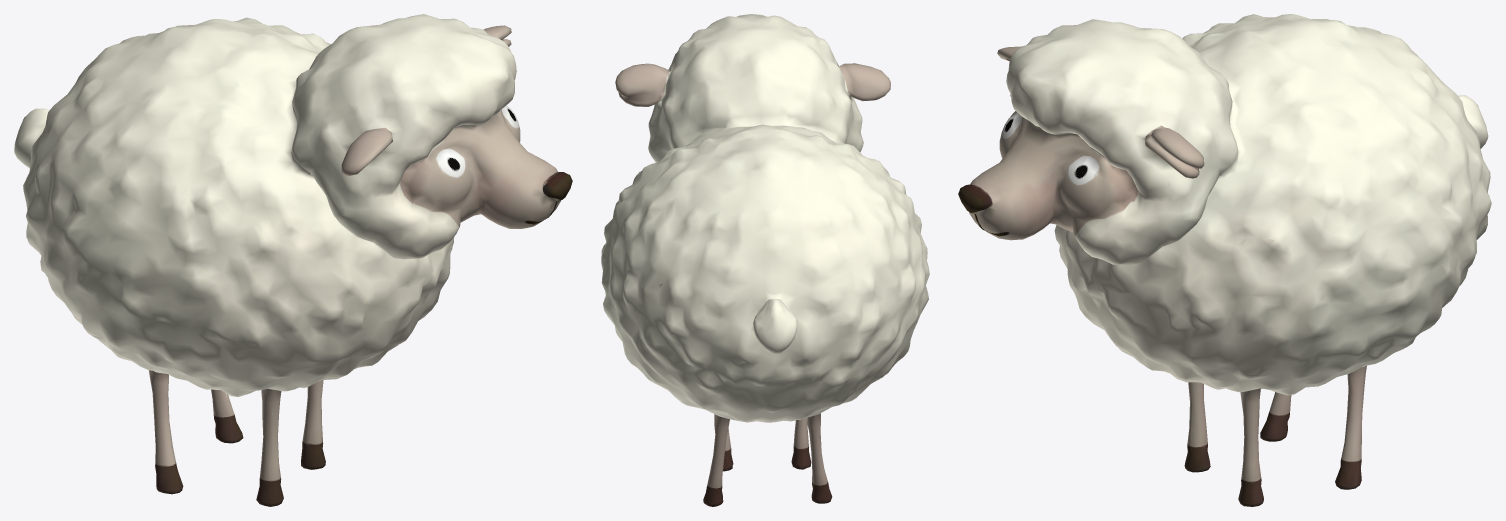
Rendered from Meshy_AI_model_Animation_Walking_withSkin.glb.
The picture shows the model from 3 angles, left to right: view 1: azimuth 30°, elevation 25°; view 2: azimuth 150°, elevation 25°; view 3: azimuth 270°, elevation 25°; orthographic projection. The views are drawn at different scales.
Parts seen in each view (by area): view 1: Mesh_0.002; view 2: Mesh_0.002; view 3: Mesh_0.002.
Part boxes in pixels (x1,y1,x2,y2): Mesh_0.002: [14, 14, 572, 506]; Mesh_0.002: [601, 14, 929, 506]; Mesh_0.002: [958, 14, 1491, 506].
Bounding box in the file's own units: 1.52 × 1.72 × 1.72.
Materials: 1 (1 with a texture image).
